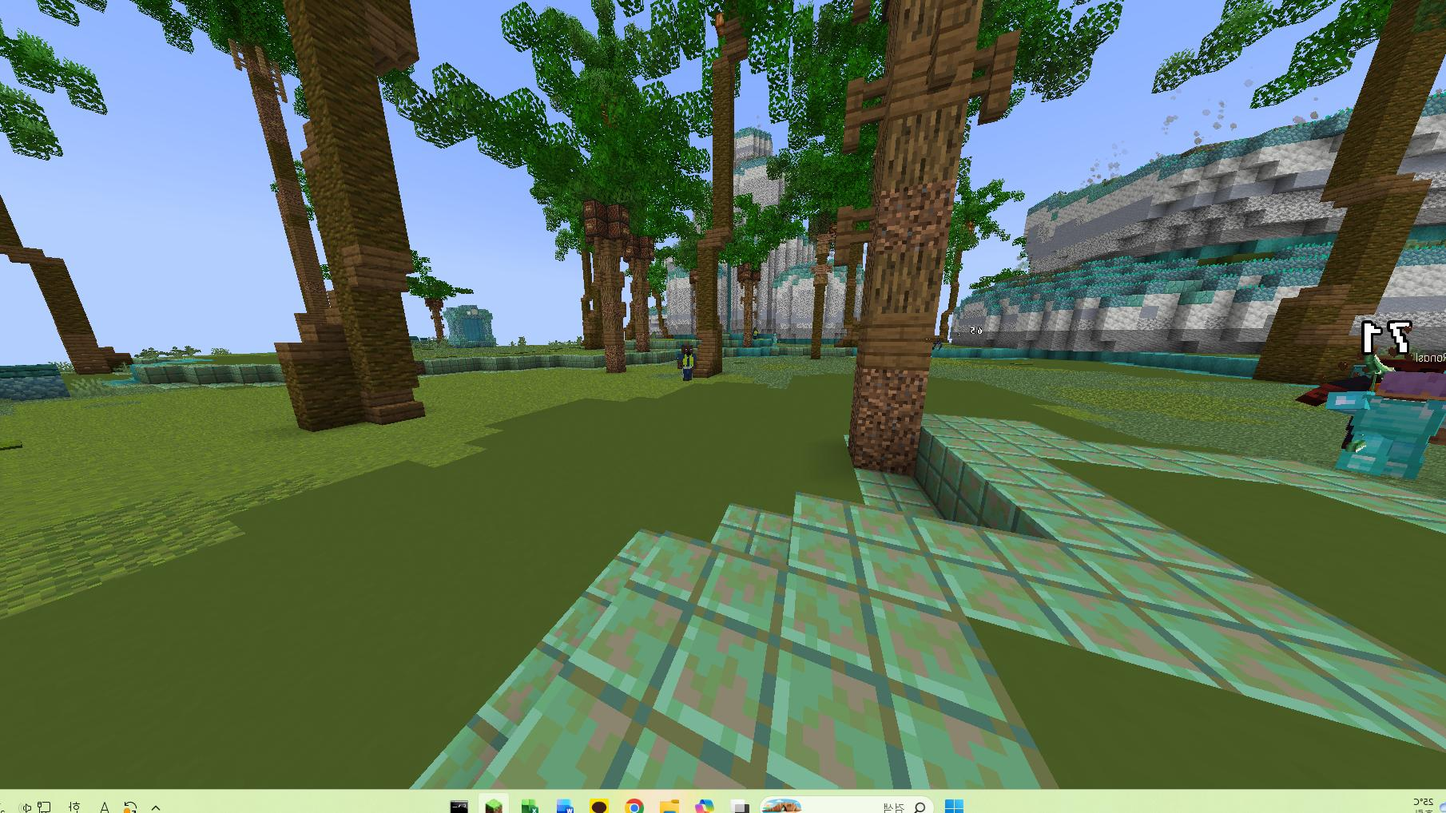Guardian: (677, 343, 698, 381)
